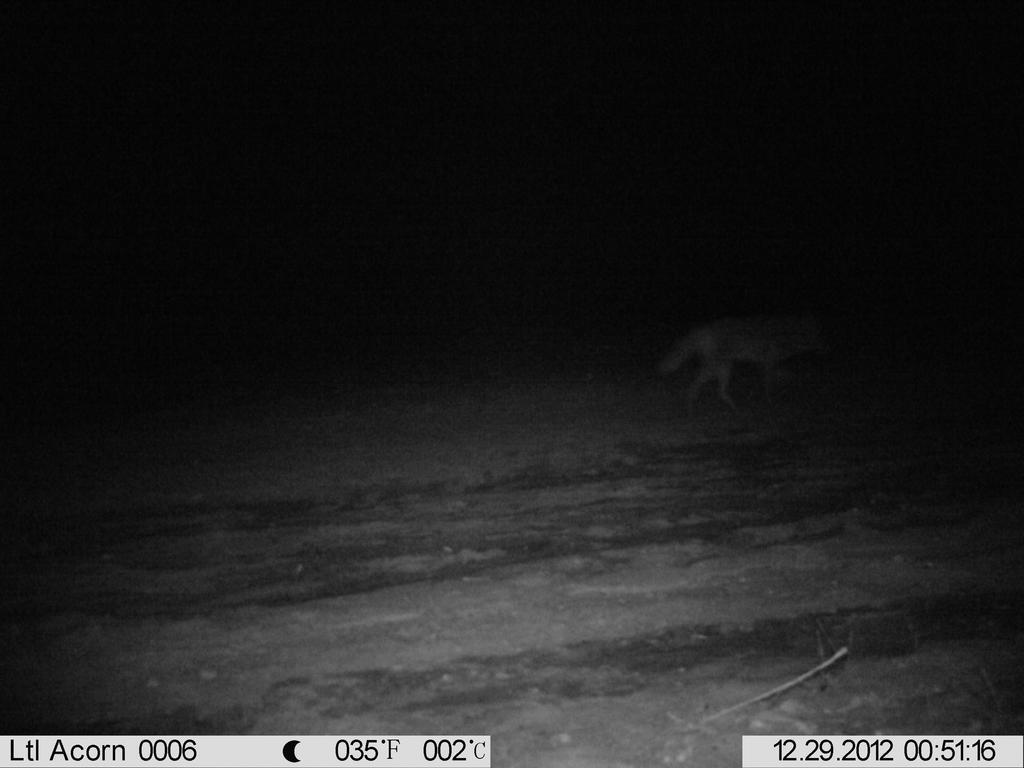coyote: (649, 290, 829, 425)
